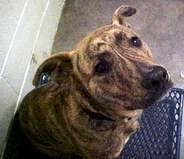dog: (14, 5, 171, 158)
